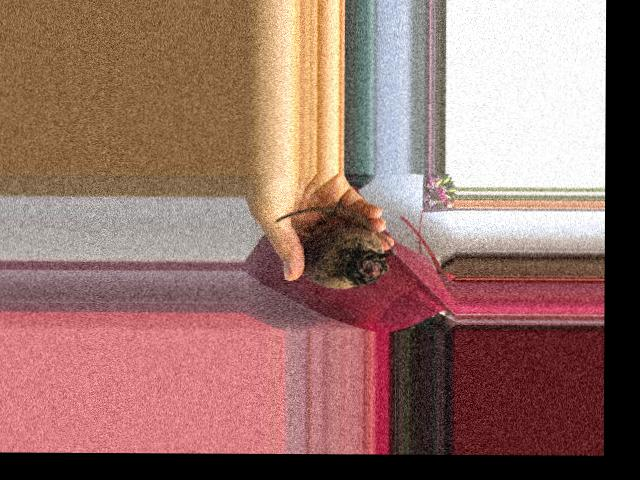beet: (275, 206, 397, 289)
